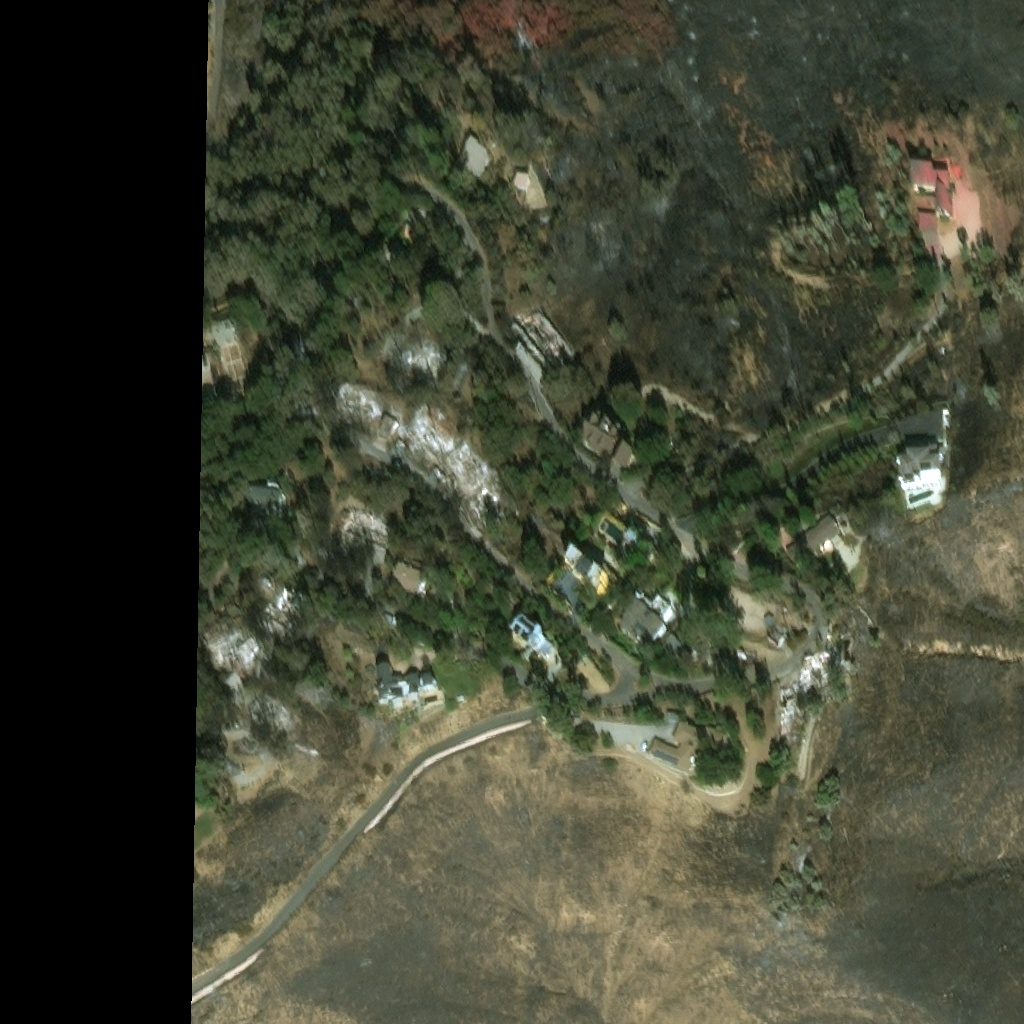0 no-damage: (572, 506, 645, 577), (645, 720, 729, 776), (783, 512, 841, 562), (616, 589, 669, 641), (375, 661, 434, 700), (508, 611, 555, 656), (575, 411, 620, 453), (899, 443, 942, 483), (387, 550, 430, 590), (912, 164, 950, 208), (450, 124, 489, 162), (247, 480, 285, 519), (659, 629, 686, 656), (570, 556, 596, 581), (609, 438, 633, 462), (763, 615, 786, 640), (584, 568, 605, 593), (560, 546, 583, 566), (508, 161, 528, 179), (917, 208, 934, 226), (761, 608, 774, 620), (666, 710, 678, 723)
3 destroyed: (505, 297, 569, 378), (327, 494, 392, 542), (393, 402, 449, 449), (796, 640, 839, 701), (431, 434, 484, 478), (203, 624, 258, 663), (260, 583, 301, 627), (464, 471, 497, 519), (775, 677, 797, 736), (335, 374, 371, 407), (409, 339, 436, 374), (243, 690, 273, 718), (371, 398, 399, 427), (263, 701, 291, 728), (219, 664, 243, 687), (393, 336, 414, 357)
4 un-classified: (371, 235, 392, 256), (395, 218, 416, 238), (389, 233, 403, 247)
